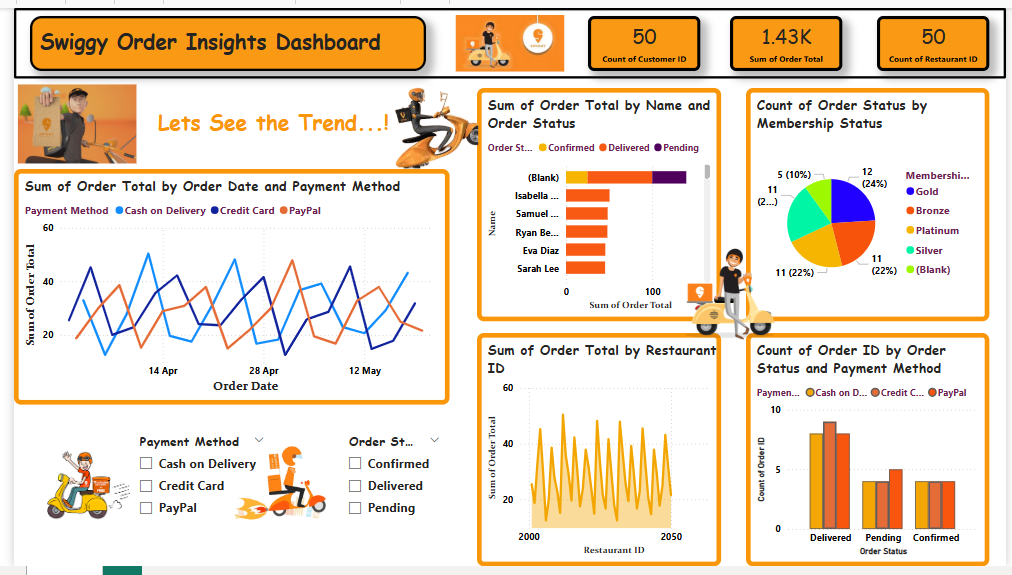

The page's visual inventory and layout, read from the dashboard file:
{"tool":"powerbi","page":{"name":"Page 1","canvas":[1280,720],"ordinal":0},"visuals":[{"type":"slicer","fields":{"Values":["Orders Data.Order Status"]},"box":[419,541.4,142.6,178.6],"z":0},{"type":"textbox","box":[20.2,10.1,511.2,70.6],"z":1000},{"type":"image","box":[0,0,1280.2,90.7],"z":2000},{"type":"card","fields":{"Values":["CountNonNull(Orders Data.Customer ID)"]},"box":[740.2,10.1,145.4,70.6],"z":3000},{"type":"card","fields":{"Values":["Sum(Orders Data.Order Total)"]},"box":[924.5,10.1,145.4,70.6],"z":4000},{"type":"card","fields":{"Values":["CountNonNull(Orders Data.Restaurant ID)"]},"box":[1113.1,10.1,145.4,70.6],"z":5000},{"type":"lineChart","fields":{"Y":["Sum(Orders Data.Order Total)"],"Series":["Orders Data.Payment Method"],"Category":["Orders Data.Order Date"]},"box":[0,207.4,561.6,303.8],"z":6000},{"type":"image","box":[0,92.2,162.7,115.2],"z":7000},{"type":"textbox","box":[162.7,123.8,344.2,51.8],"z":8000},{"type":"pieChart","fields":{"Category":["Orders Data.Membership Status"],"Y":["CountNonNull(Orders Data.Order Status)"]},"box":[944.6,103.7,313.9,301],"z":9000},{"type":"barChart","fields":{"Category":["Orders Data.Name"],"Y":["Sum(Orders Data.Order Total)"],"Series":["Orders Data.Order Status"]},"box":[597.6,103.7,315.4,301],"z":10000},{"type":"clusteredColumnChart","fields":{"Category":["Orders Data.Order Status"],"Y":["CountNonNull(Orders Data.Order ID)"],"Series":["Orders Data.Payment Method"]},"box":[944.6,419,313.9,301],"z":11000},{"type":"stackedAreaChart","fields":{"Category":["Orders Data.Restaurant ID"],"Y":["Sum(Orders Data.Order Total)"]},"box":[597.6,419,315.4,301],"z":12000},{"type":"image","box":[0,511.2,197.3,208.8],"z":13000},{"type":"slicer","fields":{"Values":["Orders Data.Payment Method"]},"box":[149.8,541.4,185.8,178.6],"z":14000},{"type":"image","box":[833.8,296.6,180,145.4],"z":15000},{"type":"image","box":[400.3,61.9,204.5,180],"z":16000},{"type":"image","box":[266.4,541.4,164.2,162.7],"z":17000}]}

Visuals, with their boxes in screenshot pixels (x1, y1, x2, y2), scaled from the page's 1280x720 canvas onto the 1012x575 screenshot:
slicer - Orders Data.Order Status: pyautogui.locateOnScreen(331, 432, 444, 574)
textbox: pyautogui.locateOnScreen(16, 8, 420, 64)
image: pyautogui.locateOnScreen(0, 0, 1011, 72)
card - CountNonNull(Orders Data.Customer ID): pyautogui.locateOnScreen(585, 8, 700, 64)
card - Sum(Orders Data.Order Total): pyautogui.locateOnScreen(731, 8, 846, 64)
card - CountNonNull(Orders Data.Restaurant ID): pyautogui.locateOnScreen(880, 8, 995, 64)
lineChart - Sum(Orders Data.Order Total) x Orders Data.Payment Method: pyautogui.locateOnScreen(0, 166, 444, 408)
image: pyautogui.locateOnScreen(0, 74, 129, 166)
textbox: pyautogui.locateOnScreen(129, 99, 401, 140)
pieChart - Orders Data.Membership Status x CountNonNull(Orders Data.Order Status): pyautogui.locateOnScreen(747, 83, 995, 323)
barChart - Orders Data.Name x Sum(Orders Data.Order Total): pyautogui.locateOnScreen(472, 83, 722, 323)
clusteredColumnChart - Orders Data.Order Status x CountNonNull(Orders Data.Order ID): pyautogui.locateOnScreen(747, 335, 995, 574)
stackedAreaChart - Orders Data.Restaurant ID x Sum(Orders Data.Order Total): pyautogui.locateOnScreen(472, 335, 722, 574)
image: pyautogui.locateOnScreen(0, 408, 156, 574)
slicer - Orders Data.Payment Method: pyautogui.locateOnScreen(118, 432, 265, 574)
image: pyautogui.locateOnScreen(659, 237, 802, 353)
image: pyautogui.locateOnScreen(316, 49, 478, 193)
image: pyautogui.locateOnScreen(211, 432, 340, 562)
